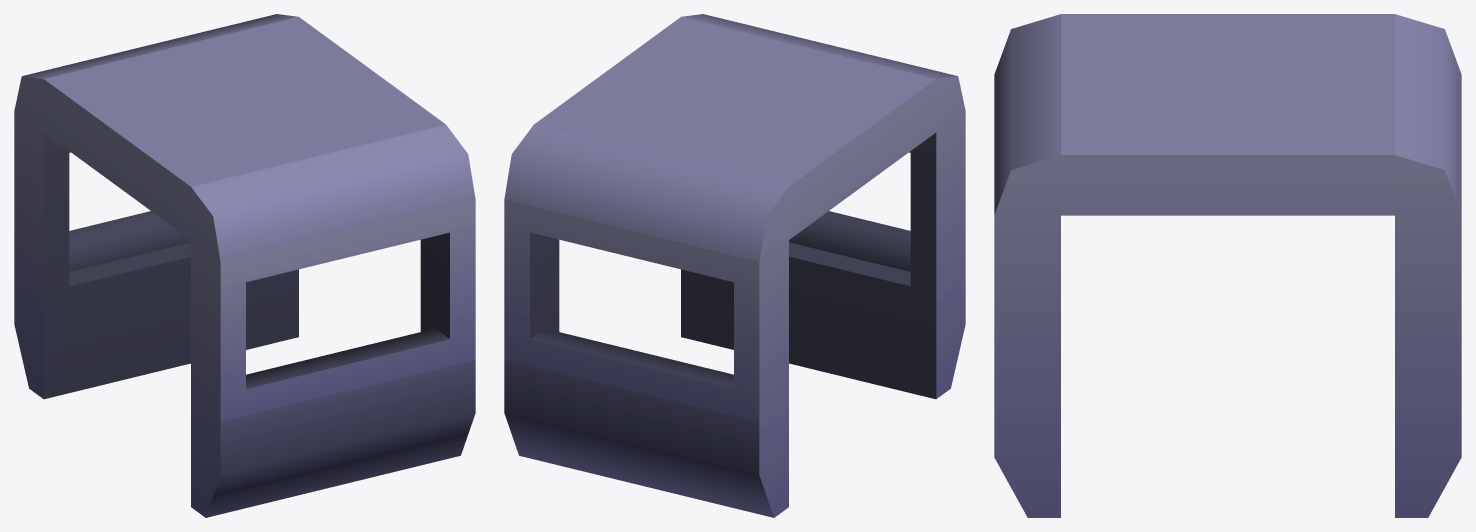
Rendered from kenney-conveyor-cover-window.glb.
3 views of the same model, side by side, from view 1: azimuth 30°, elevation 25°; view 2: azimuth 150°, elevation 25°; view 3: azimuth 270°, elevation 25° (orthographic). The views are drawn at different scales.
Visible parts, largest first — view 1: cover-window; view 2: cover-window; view 3: cover-window.
Boxes of the visible parts, left/top/right/bottom form: cover-window: left=14, top=14, right=475, bottom=517; cover-window: left=504, top=14, right=965, bottom=517; cover-window: left=994, top=14, right=1461, bottom=517.
Bounding box in the file's own units: 1 × 1.2 × 1.4.
1 material, 1 textured.
